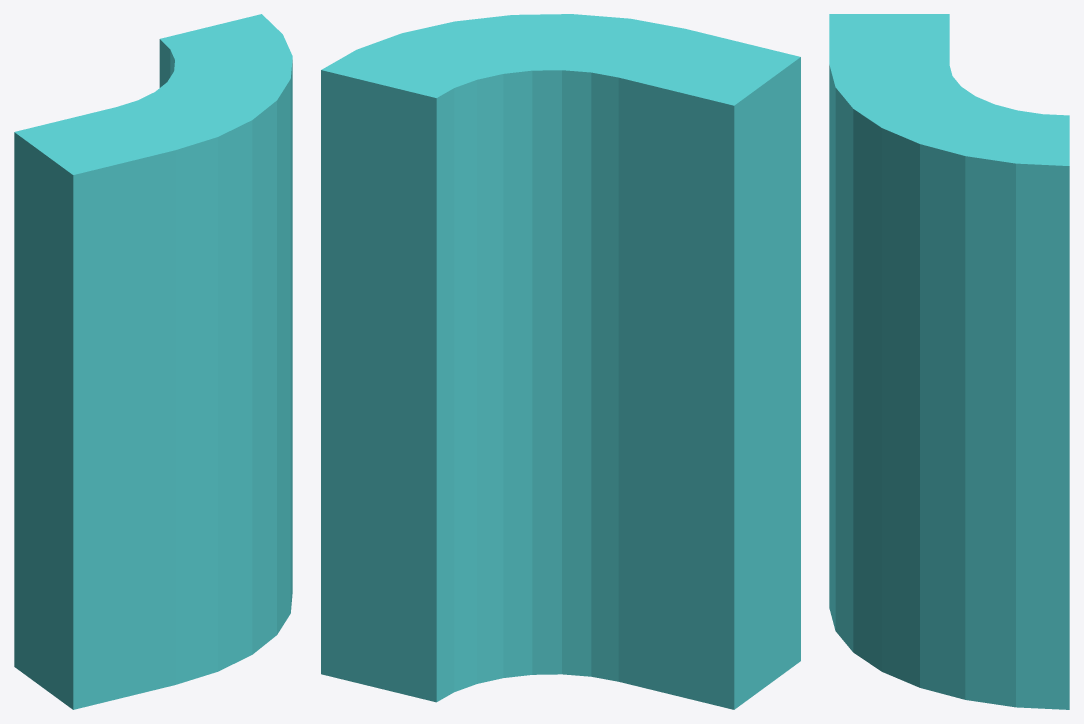
The model's file is platform_01.fbx.
3 views of the same model, side by side, from view 1: azimuth 30°, elevation 25°; view 2: azimuth 150°, elevation 25°; view 3: azimuth 270°, elevation 25° (orthographic). The views are drawn at different scales.
Parts seen in each view (by area): view 1: floor.001; view 2: floor.001; view 3: floor.001.
Part boxes in pixels (x1,y1,x2,y2): floor.001: (14, 14, 292, 709); floor.001: (321, 14, 800, 709); floor.001: (829, 14, 1069, 709).
Bounding box in the file's own units: 600 × 1000 × 400.
